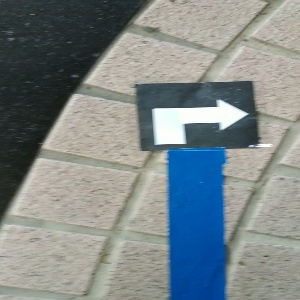right: (134, 84, 259, 150)
